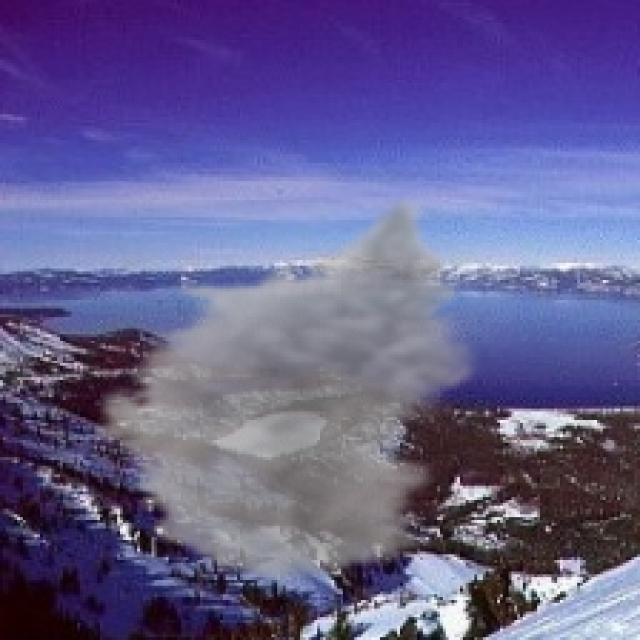Smoke: (82, 194, 488, 586)
